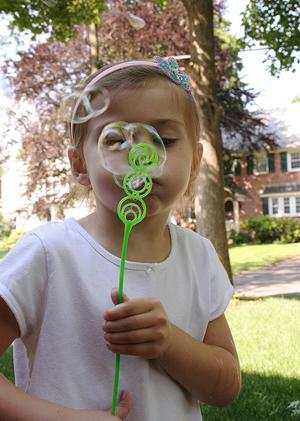person: (1, 61, 243, 413)
